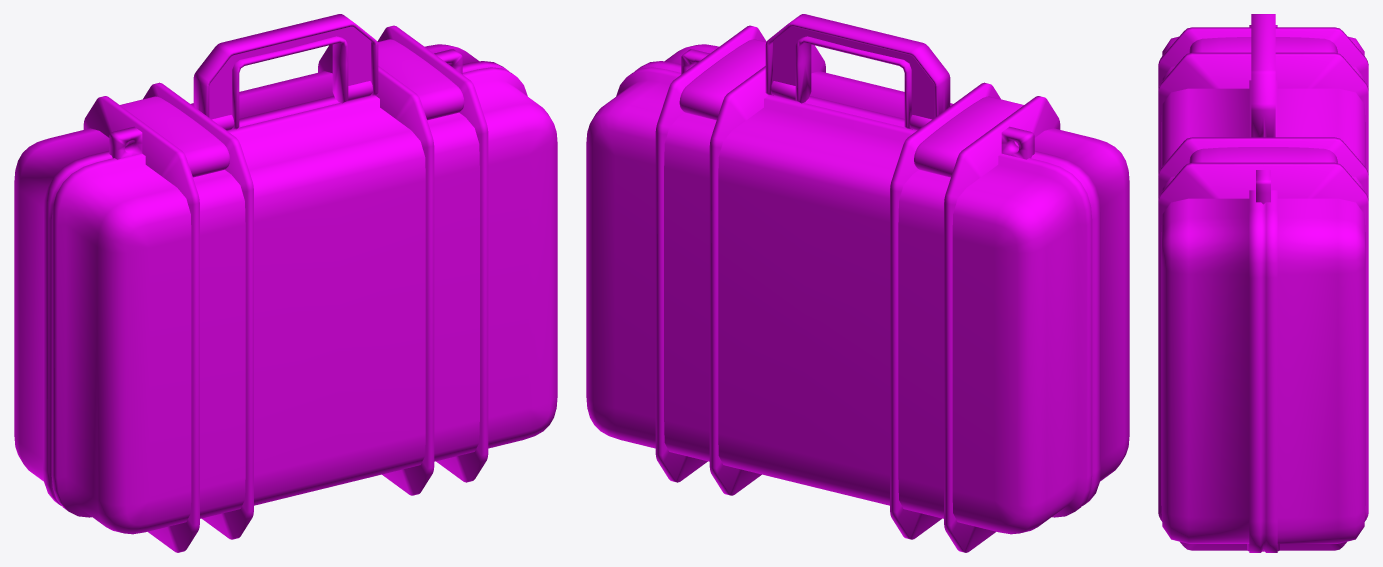
File: blueboxsmall.dae
The picture shows the model from 3 angles, left to right: view 1: azimuth 30°, elevation 25°; view 2: azimuth 150°, elevation 25°; view 3: azimuth 270°, elevation 25°; orthographic projection. The views are drawn at different scales.
Parts seen in each view (by area): view 1: Box004; view 2: Box004; view 3: Box004.
Boxes of the visible parts, <box> form: Box004: <box>14,14,557,552</box>; Box004: <box>586,14,1129,552</box>; Box004: <box>1158,14,1368,552</box>.
Size of the model in its own units: 26.03 by 10.46 by 24.06.
